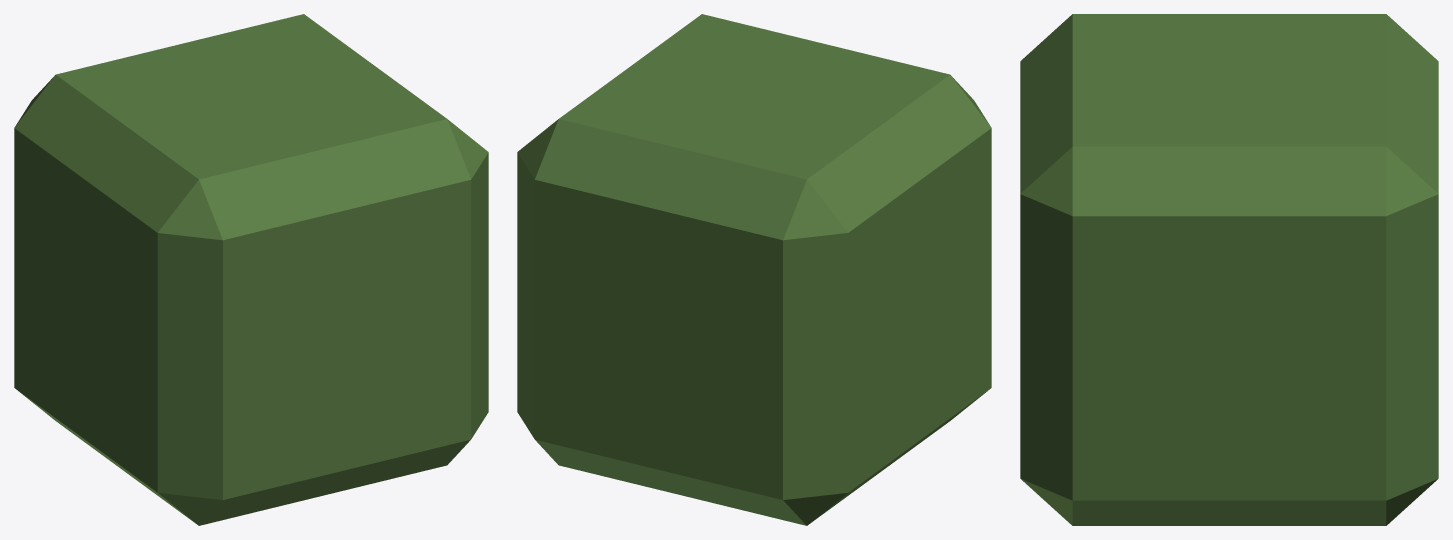
The model's file is Dark Green.fbx.
3 renders of one model, left to right at view 1: azimuth 30°, elevation 25°; view 2: azimuth 150°, elevation 25°; view 3: azimuth 270°, elevation 25°, orthographic. The views are drawn at different scales.
Visible parts, largest first — view 1: Dark Green; view 2: Dark Green; view 3: Dark Green.
Part boxes in pixels (x1,y1,x2,y2): Dark Green: (14, 14, 488, 525); Dark Green: (517, 14, 991, 525); Dark Green: (1020, 14, 1438, 525).
Size of the model in its own units: 200 by 200 by 200.
